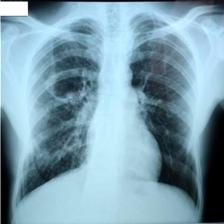tuberculosis: (10, 11, 202, 210)
